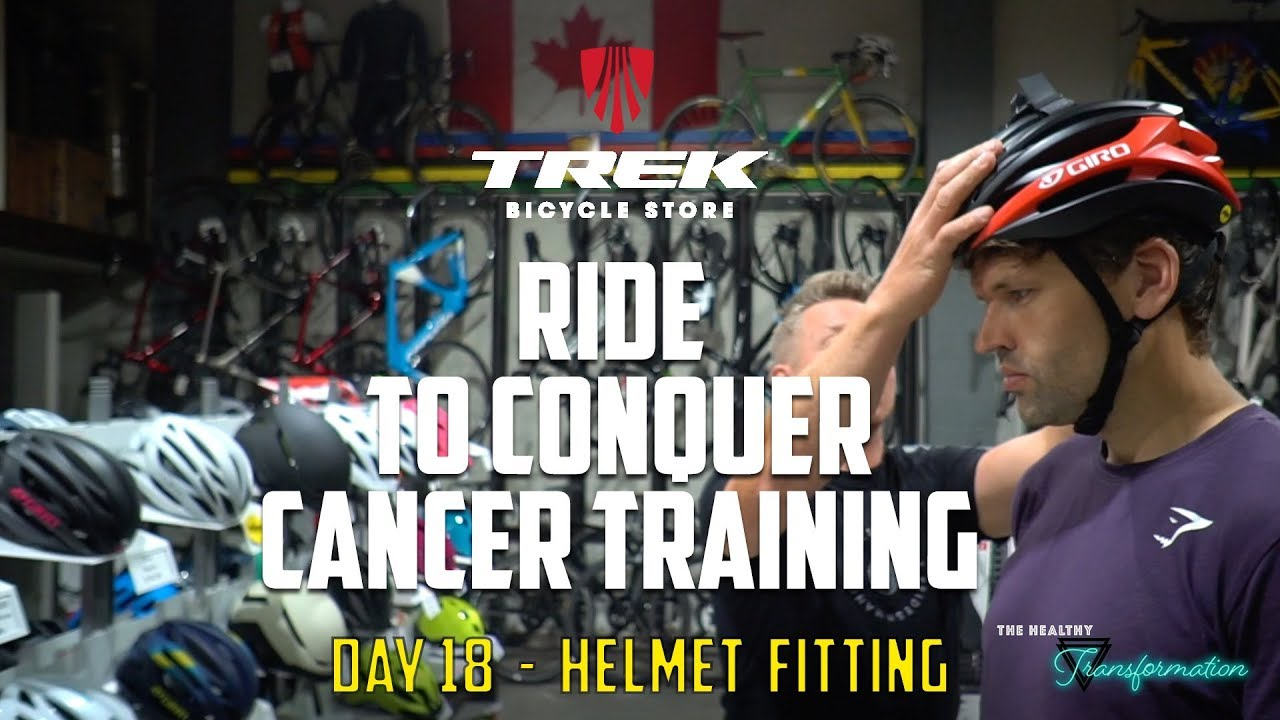helmet: (950, 71, 1242, 427)
